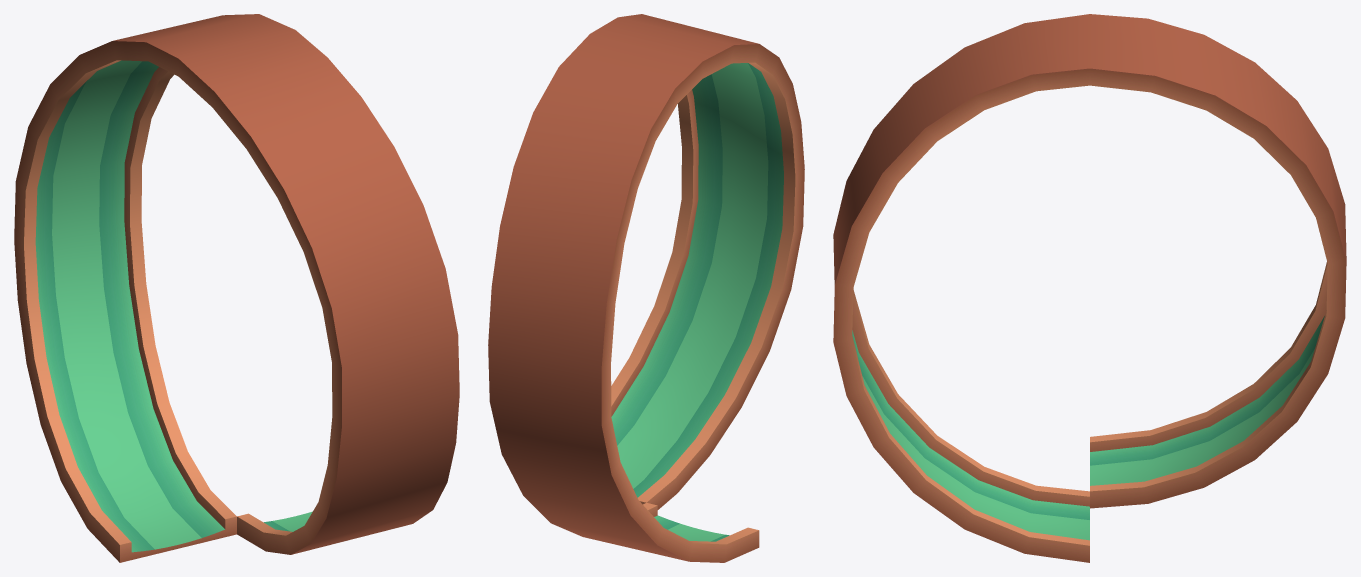
File: spline-concave-looping.glb
3 renders of one model, left to right at view 1: azimuth 30°, elevation 25°; view 2: azimuth 150°, elevation 25°; view 3: azimuth 270°, elevation 25°, orthographic. The views are drawn at different scales.
Visible parts, largest first — view 1: spline-concave-looping; view 2: spline-concave-looping; view 3: spline-concave-looping.
Boxes of the visible parts, box(x1,y1,x2,y2) form: spline-concave-looping: box(14, 14, 459, 562); spline-concave-looping: box(488, 14, 804, 562); spline-concave-looping: box(833, 14, 1346, 562).
Size of the model in its own units: 2 by 4 by 3.98.
Materials: 1 (1 with a texture image).
